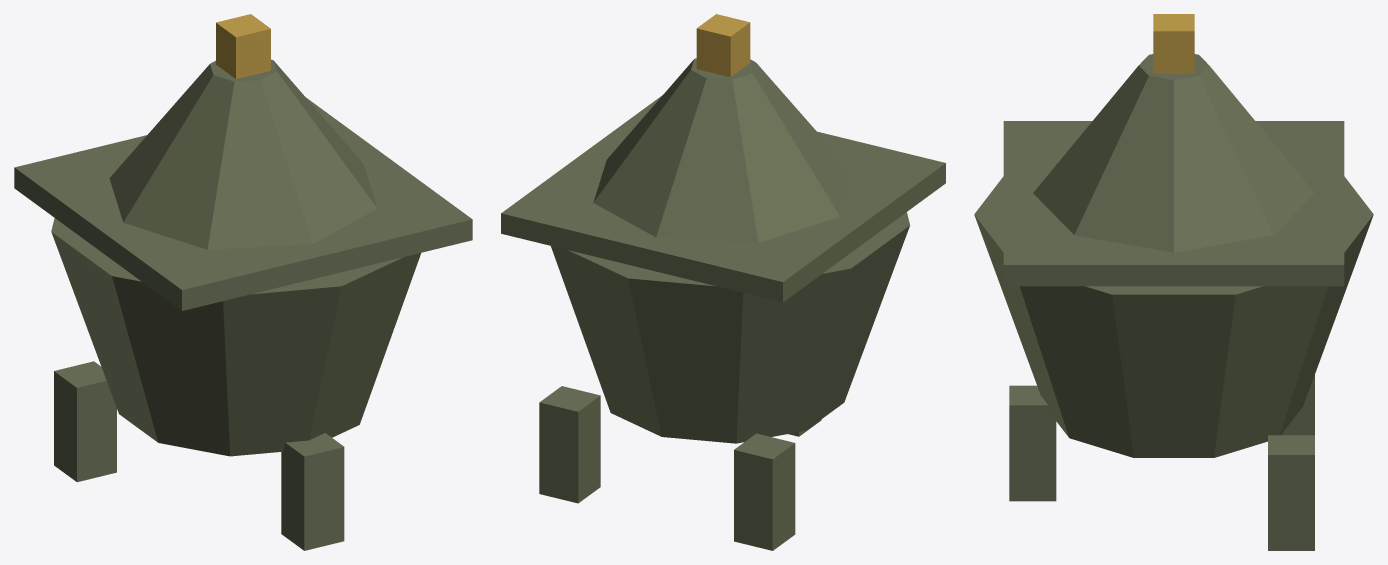
Rendered from jap-incensario.gltf.
3 renders of one model, left to right at view 1: azimuth 30°, elevation 25°; view 2: azimuth 150°, elevation 25°; view 3: azimuth 270°, elevation 25°, orthographic. The views are drawn at different scales.
Visible parts, largest first — view 1: jap-incensario; view 2: jap-incensario; view 3: jap-incensario.
Boxes of the visible parts, left/top/right/bottom form: jap-incensario: left=14, top=14, right=472, bottom=550; jap-incensario: left=501, top=14, right=945, bottom=550; jap-incensario: left=974, top=14, right=1373, bottom=550.
Bounding box in the file's own units: 0.6467 × 0.88 × 0.68.
